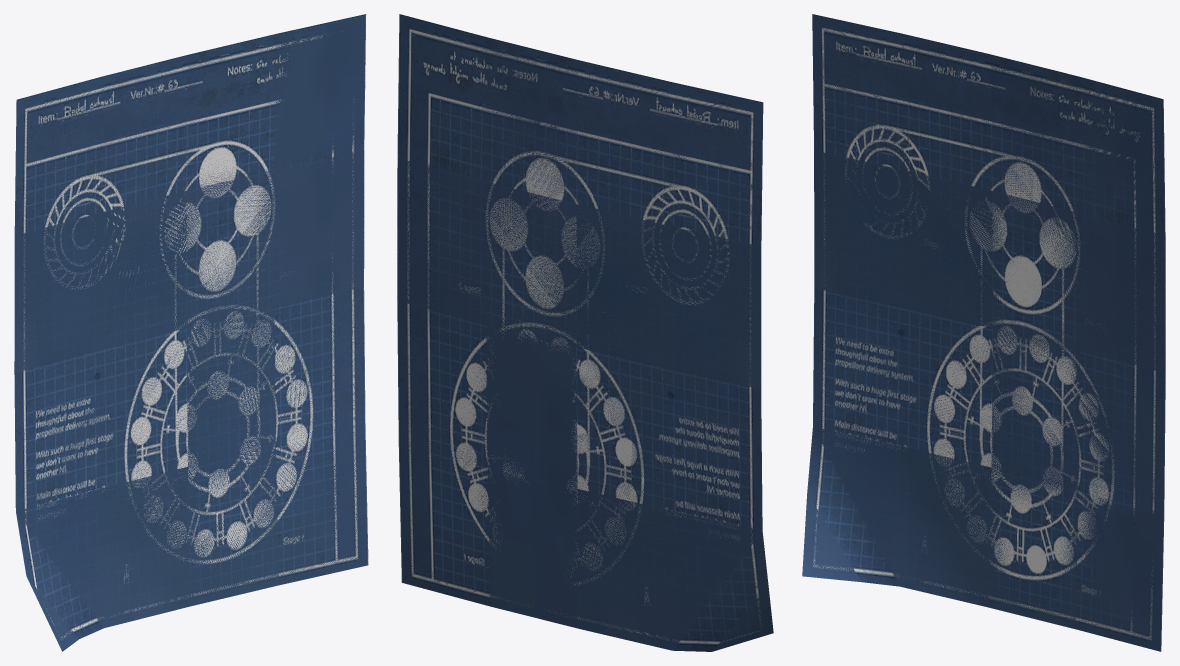
Rendered from rocket_blueprint_01.dae.
The picture shows the model from 3 angles, left to right: view 1: azimuth 30°, elevation 25°; view 2: azimuth 150°, elevation 25°; view 3: azimuth 330°, elevation 25°; orthographic projection. The views are drawn at different scales.
Visible parts, largest first — view 1: 01; view 2: 01; view 3: 01.
Part boxes in pixels (x1,y1,x2,y2): 01: [14, 14, 368, 651]; 01: [397, 14, 773, 651]; 01: [802, 14, 1165, 651].
Bounding box in the file's own units: 0.9995 × 1.5 × 0.1631.
